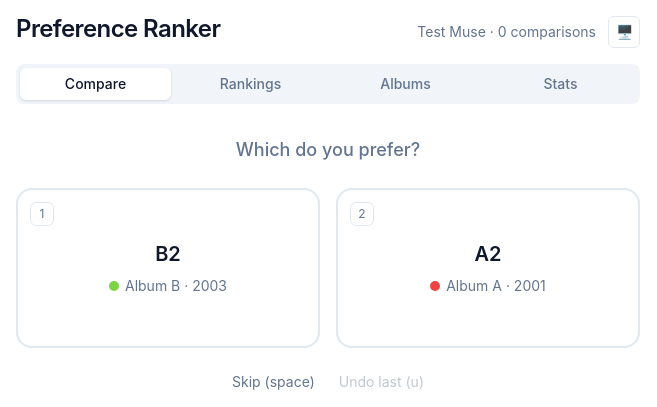
Test: App › shows an empty-state message in rankings before any comparison
Expected: the heading "Which do you prefer?" is shown, [236,136,420,164]
Click the button "Rankings" at (250, 84), box [175,68,326,100]
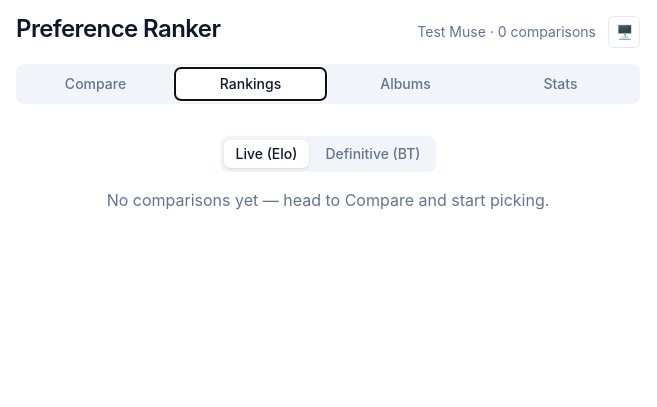
Expected: the text "No comparisons yet — head to Compare and start picking." is shown, [107,190,549,210]
